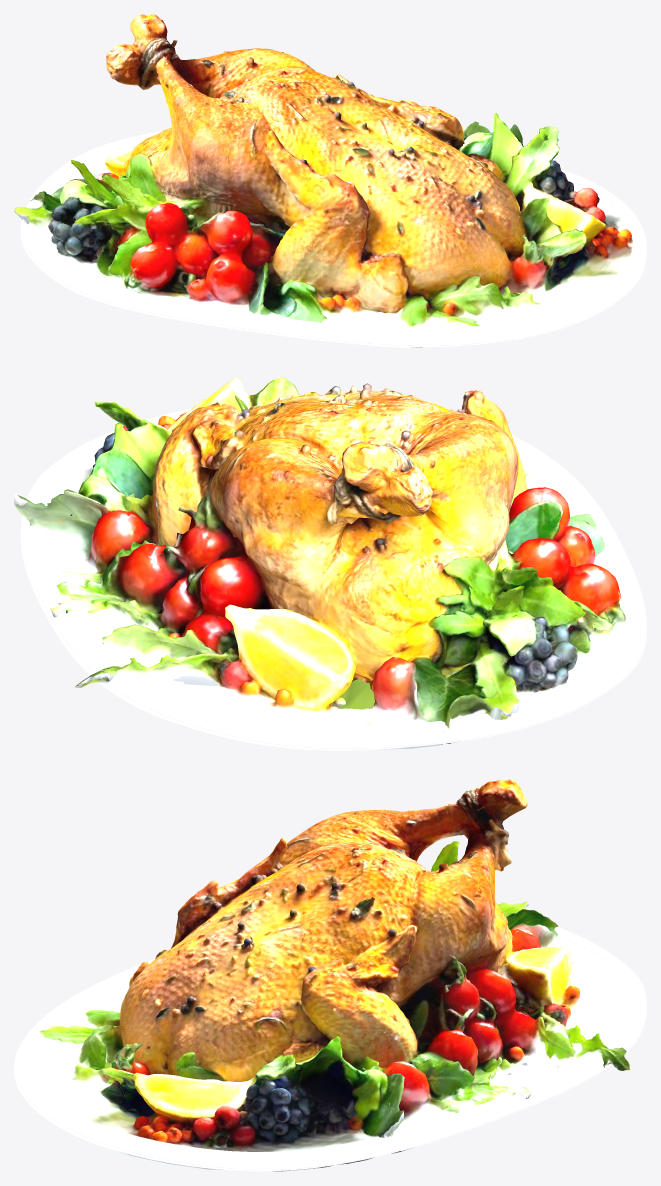
Rendered from pato-assado-android.glb.
3 views of the same model, one above another, from view 1: azimuth 30°, elevation 25°; view 2: azimuth 150°, elevation 25°; view 3: azimuth 270°, elevation 25° (orthographic). The views are drawn at different scales.
Parts seen in each view (by area): view 1: Object_4, Object_5; view 2: Object_4, Object_5; view 3: Object_4, Object_5.
Boxes of the visible parts, bbox=[...] form: Object_4: bbox=[14, 14, 632, 347]; Object_5: bbox=[20, 130, 646, 347]; Object_4: bbox=[14, 376, 628, 749]; Object_5: bbox=[20, 408, 646, 750]; Object_4: bbox=[29, 779, 631, 1171]; Object_5: bbox=[14, 926, 646, 1171].
Size of the model in its own units: 0.2723 by 0.1005 by 0.2787.
Materials: 2 (1 with a texture image).
